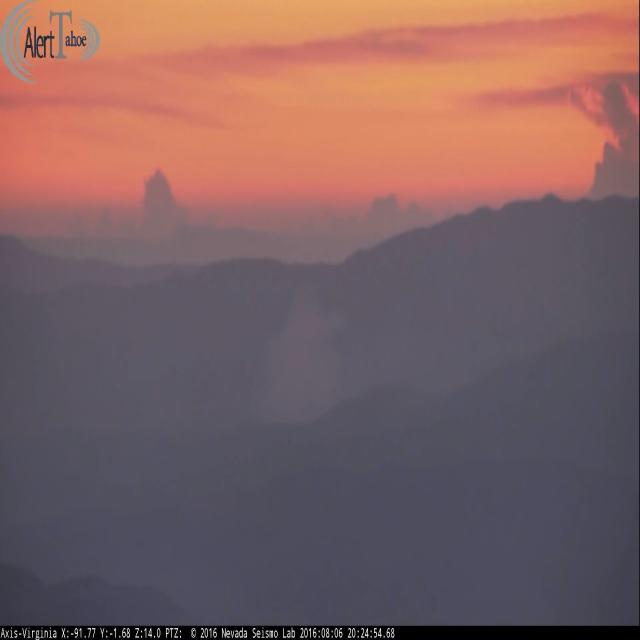smoke: (259, 281, 350, 427)
